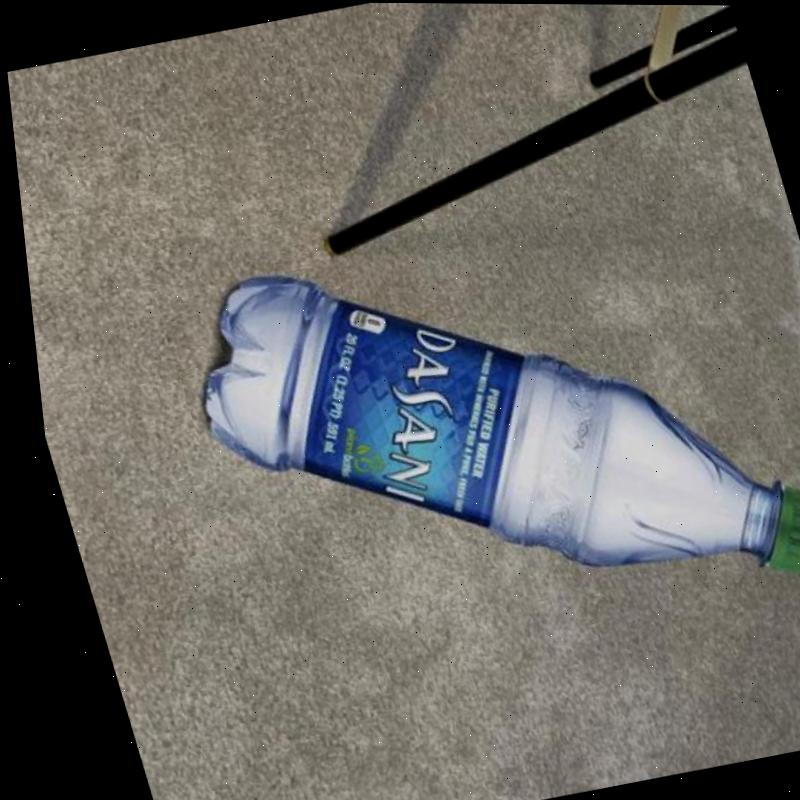botella: (155, 179, 800, 677)
